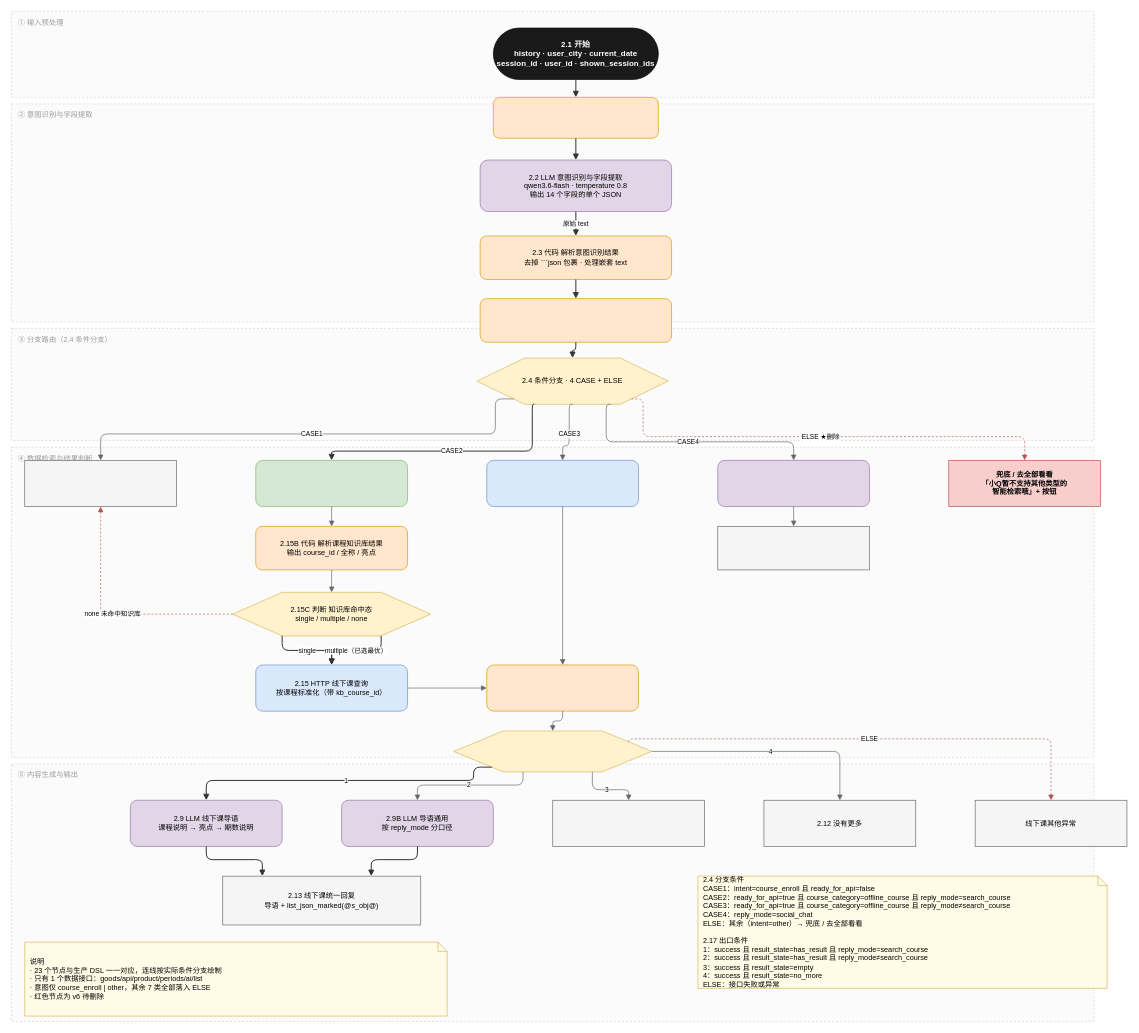
Image size: 1139x1033. Some labels were removed from this diagram. The shapes that lost their labels are listed below. From the top down, each one's box as (x1, y1, x2, y2) in pixels, then its label:
(493, 97, 658, 138): clean_history 编码逆修复 latin-1 → utf-8
(479, 298, 672, 342): 2.3A 代码 shownSessionIds 清洗 仅 reply_mode=follow_up 时透传
(24, 460, 177, 507): 2.5 回复 补充信息 提示补充课名 / 城市 / 导师
(255, 460, 408, 507): 2.15A 知识库 课程查询 混合检索 向量0.6+关键词0.4 · top_k 10
(486, 460, 639, 507): 2.15D HTTP 线下课查询 按导师 / 城市等条件
(717, 460, 870, 507): 2.18 LLM 闲聊回复
(717, 526, 870, 570): 闲聊回复 @hsy 隐藏元数据
(486, 664, 639, 711): 2.16 解析查询结果 result_state: has_result / empty / no_more / error
(453, 730, 652, 772): 2.17 结果判断 4 CASE + ELSE
(552, 800, 705, 846): 2.11 线下课空结果提示
